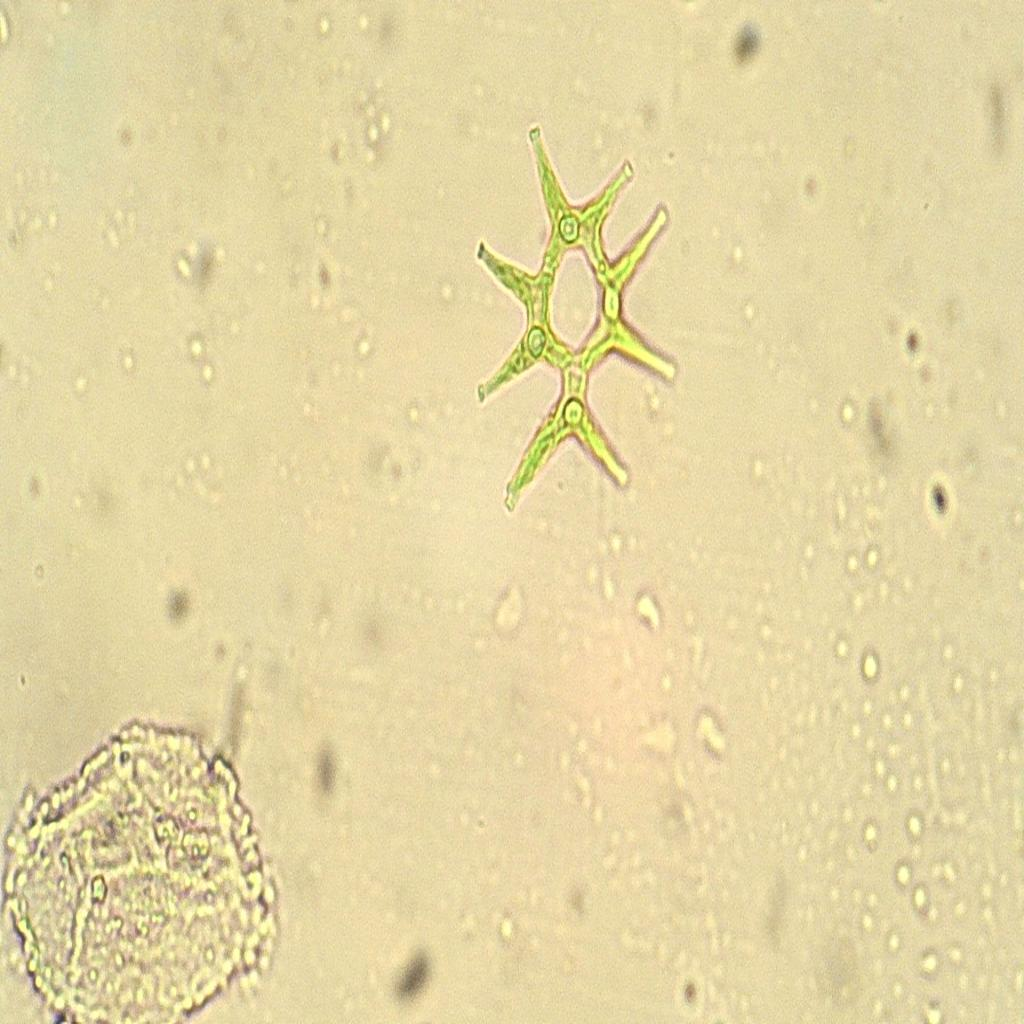Pediastrum_75FI: (462, 84, 690, 560)
